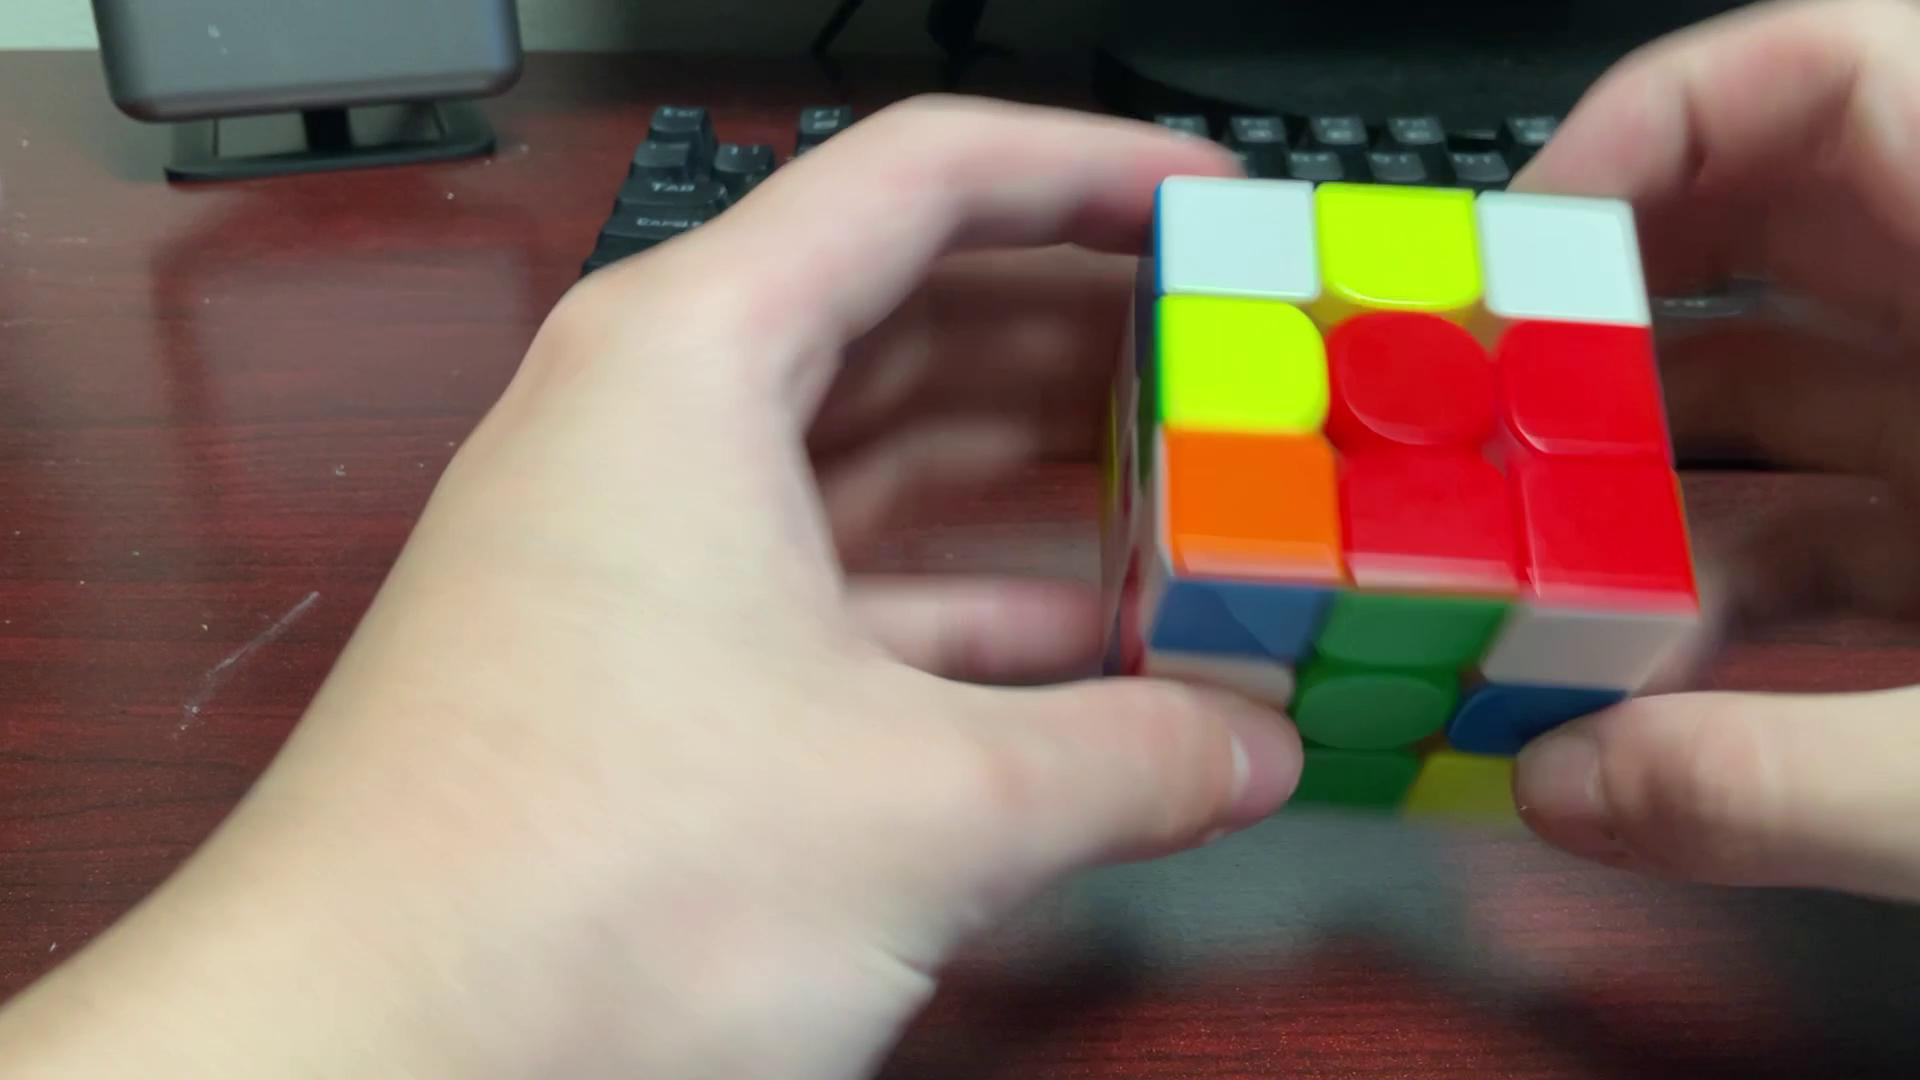Rubiks-Cube: (1102, 166, 1704, 836)
